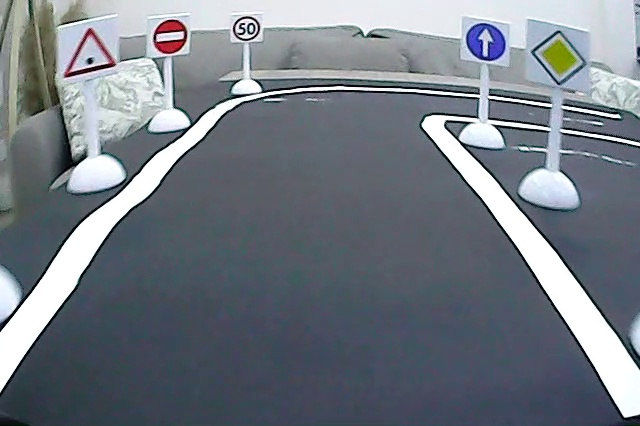do not enter: (151, 18, 189, 56)
green light: (61, 24, 118, 80)
speed limit 50: (231, 14, 262, 44)
